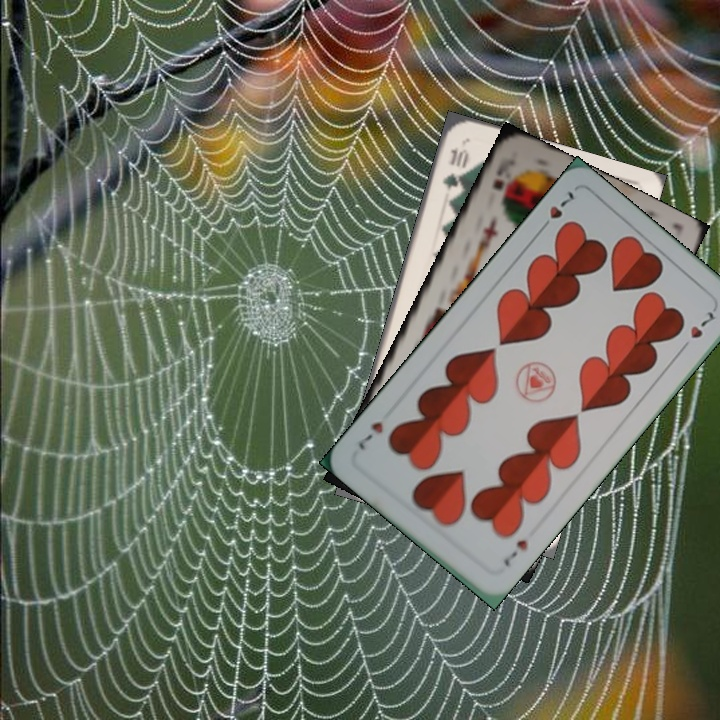G10: (438, 143, 471, 194)
H7: (534, 187, 577, 235), (498, 535, 531, 569)
SK: (488, 154, 518, 193)
